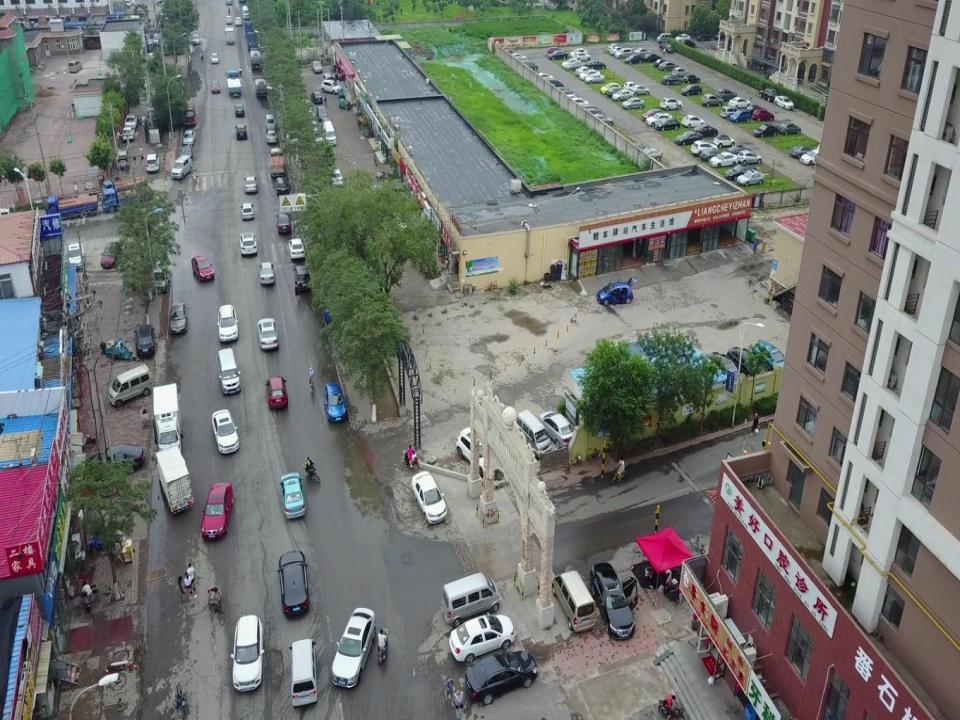car: (463, 649, 538, 705), (329, 605, 377, 689), (589, 562, 639, 640), (448, 611, 517, 664), (230, 612, 265, 694), (455, 425, 501, 479), (278, 548, 311, 618), (86, 442, 146, 478), (200, 481, 235, 542), (410, 470, 448, 526), (538, 408, 576, 450), (751, 338, 789, 377), (278, 470, 307, 520), (211, 406, 240, 456), (726, 346, 764, 384), (597, 276, 638, 307), (705, 351, 741, 385), (323, 381, 348, 423), (217, 304, 240, 343), (256, 316, 280, 353), (264, 375, 289, 410), (133, 324, 156, 356), (191, 255, 215, 282), (100, 241, 122, 270), (169, 302, 188, 335), (725, 164, 758, 182), (800, 148, 831, 166), (66, 243, 85, 271), (689, 139, 718, 157), (238, 232, 258, 256), (737, 170, 765, 187), (789, 143, 816, 160), (287, 237, 306, 261), (258, 261, 276, 286), (709, 152, 739, 167), (700, 146, 726, 163), (646, 112, 674, 127), (675, 131, 703, 145), (726, 145, 754, 159), (752, 124, 778, 138), (320, 79, 342, 95), (681, 114, 706, 128), (693, 124, 718, 138), (638, 148, 664, 161), (276, 212, 292, 233), (114, 148, 130, 169), (621, 96, 645, 110), (738, 150, 762, 164), (714, 88, 738, 102), (274, 176, 289, 198), (660, 96, 683, 110), (774, 95, 794, 111), (655, 118, 681, 130), (700, 94, 724, 107), (713, 134, 735, 148), (240, 202, 255, 222), (329, 168, 344, 188), (776, 122, 801, 134), (641, 108, 664, 121), (611, 90, 635, 102), (592, 114, 614, 127), (752, 108, 774, 121), (146, 153, 160, 173), (758, 88, 778, 102), (542, 78, 565, 90), (719, 106, 742, 118), (600, 82, 621, 95), (516, 60, 538, 72), (584, 108, 606, 120), (729, 110, 751, 122), (728, 97, 752, 108), (680, 84, 702, 96), (660, 74, 683, 85), (565, 61, 586, 73), (584, 73, 605, 85), (547, 49, 569, 60), (582, 103, 602, 115), (586, 59, 606, 71), (123, 114, 137, 131), (182, 128, 196, 145), (244, 176, 257, 194), (235, 123, 248, 141), (579, 70, 600, 81), (629, 84, 650, 95), (658, 61, 679, 72), (546, 46, 565, 58), (122, 125, 136, 141), (180, 142, 193, 159), (508, 53, 528, 64), (534, 72, 554, 83), (561, 57, 581, 68), (614, 47, 634, 58), (606, 86, 624, 98), (624, 54, 645, 64), (316, 105, 328, 122), (570, 97, 590, 107), (575, 66, 593, 77), (683, 73, 701, 84), (572, 52, 591, 62), (633, 47, 652, 57), (553, 87, 574, 96), (142, 53, 159, 64), (659, 42, 674, 54), (671, 67, 690, 76), (570, 47, 587, 57), (266, 130, 278, 144), (210, 80, 221, 95), (675, 33, 690, 44), (564, 93, 580, 103), (234, 104, 245, 118), (505, 48, 522, 57), (623, 81, 638, 91), (311, 92, 323, 104), (644, 53, 660, 62), (610, 46, 626, 55), (606, 43, 622, 52), (311, 61, 322, 74), (653, 58, 667, 68), (152, 31, 162, 44), (322, 72, 332, 84), (210, 53, 219, 65), (192, 33, 200, 45), (225, 15, 233, 25)
truck: (155, 443, 194, 517), (151, 382, 183, 459), (44, 194, 99, 221), (101, 186, 154, 214), (101, 175, 147, 202), (180, 96, 197, 128), (224, 70, 243, 98), (269, 147, 285, 179), (252, 74, 268, 99), (249, 45, 263, 70), (246, 32, 260, 53), (243, 21, 255, 41), (224, 27, 235, 46), (235, 17, 242, 26)
van: (440, 570, 502, 629), (550, 569, 596, 632), (288, 636, 319, 710), (107, 364, 153, 408), (515, 410, 552, 459), (218, 348, 242, 396), (150, 258, 169, 295), (292, 264, 314, 294), (170, 154, 193, 181), (322, 120, 337, 148), (264, 114, 276, 133), (68, 60, 82, 74), (656, 32, 672, 43), (242, 4, 250, 20)
